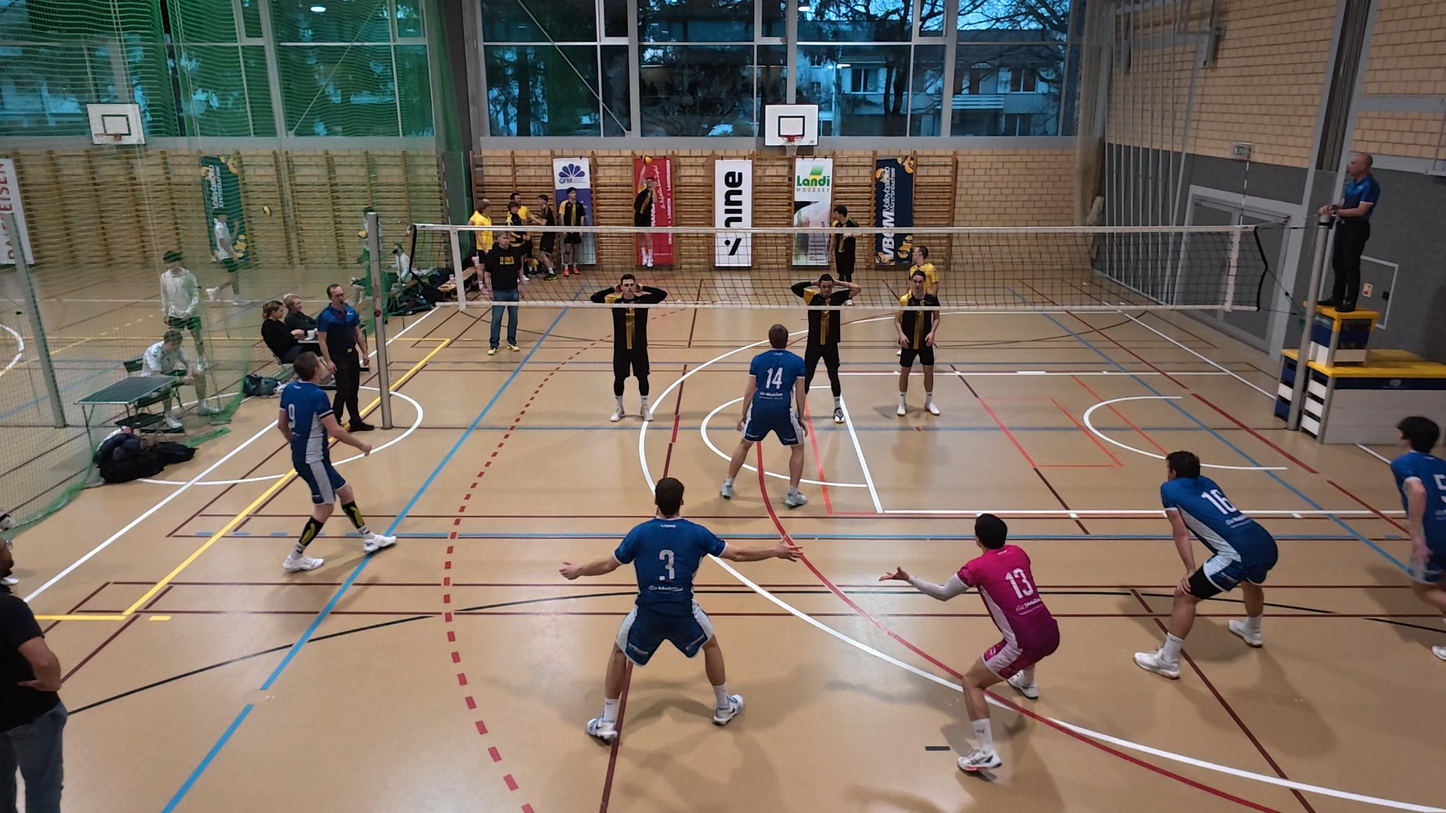Player: (562, 476, 800, 742), (880, 514, 1059, 775), (1135, 450, 1279, 677), (275, 353, 397, 572), (719, 324, 811, 507), (1391, 416, 1446, 661), (589, 273, 670, 421), (790, 273, 859, 422), (894, 273, 940, 416), (897, 241, 938, 342)
Serve: (631, 152, 662, 271)
ball: (640, 151, 656, 168)
